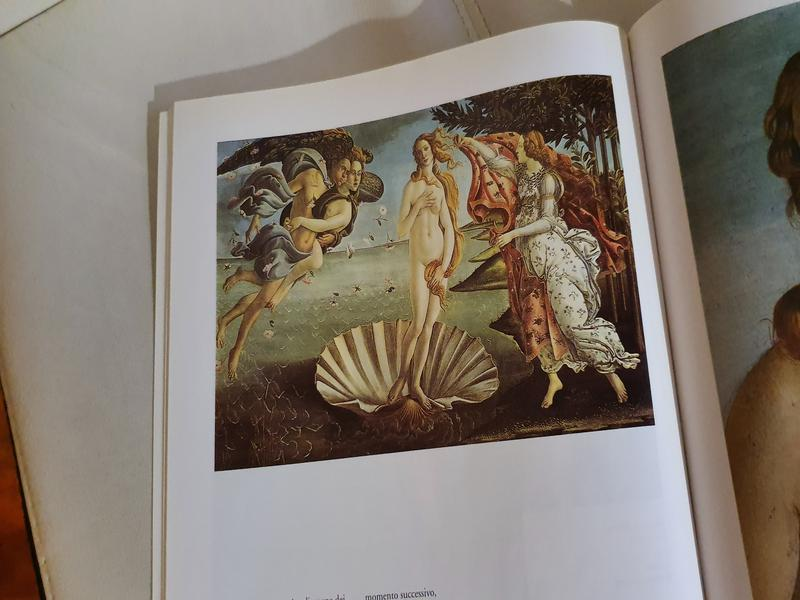Venere: (219, 74, 655, 471)
